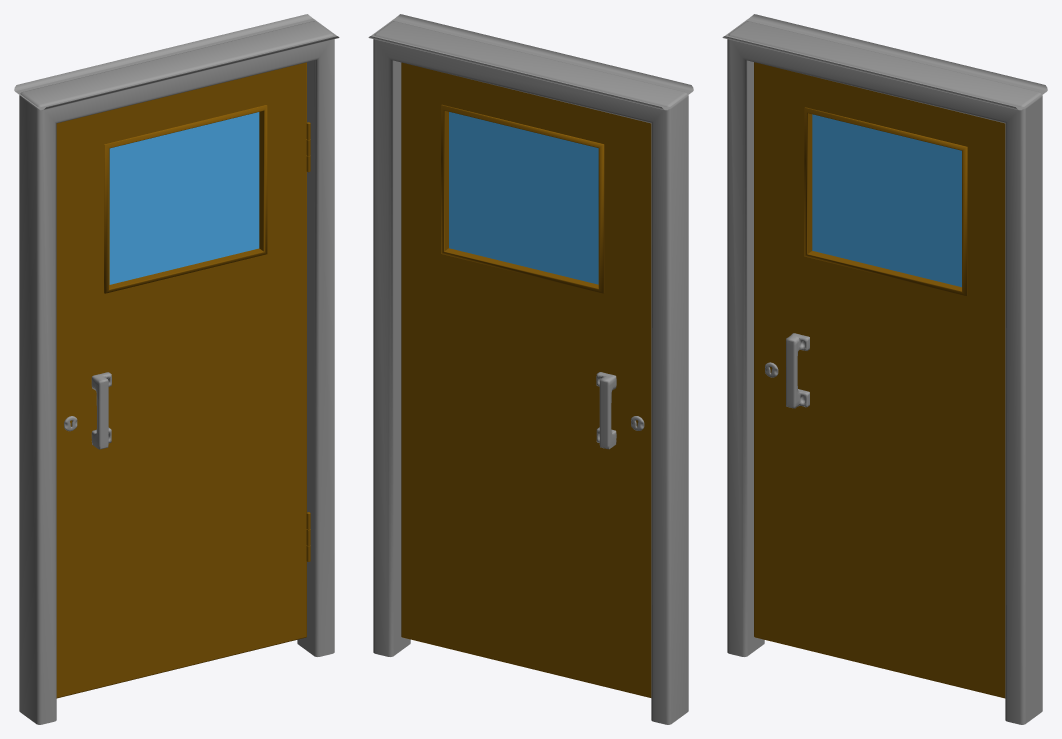
Rendered from Doors1.fbx.
3 views of the same model, side by side, from view 1: azimuth 30°, elevation 25°; view 2: azimuth 150°, elevation 25°; view 3: azimuth 330°, elevation 25° (orthographic).
Parts seen in each view (by area): view 1: R_2, FM_2; view 2: R_2, FM_2; view 3: R_2, FM_2.
Boxes of the visible parts, x1,y1,x2,y2 form: R_2: [56, 62, 306, 698]; FM_2: [14, 14, 339, 724]; R_2: [401, 62, 651, 697]; FM_2: [368, 14, 693, 724]; R_2: [754, 62, 1005, 698]; FM_2: [722, 14, 1047, 724].
Bounding box in the file's own units: 126 × 251 × 22.05.
